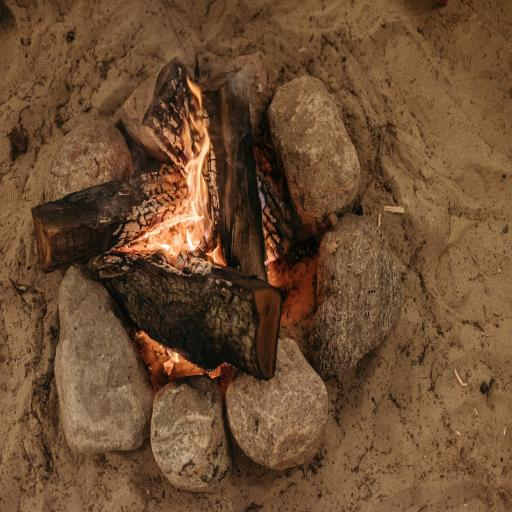campfire: (31, 49, 337, 406)
